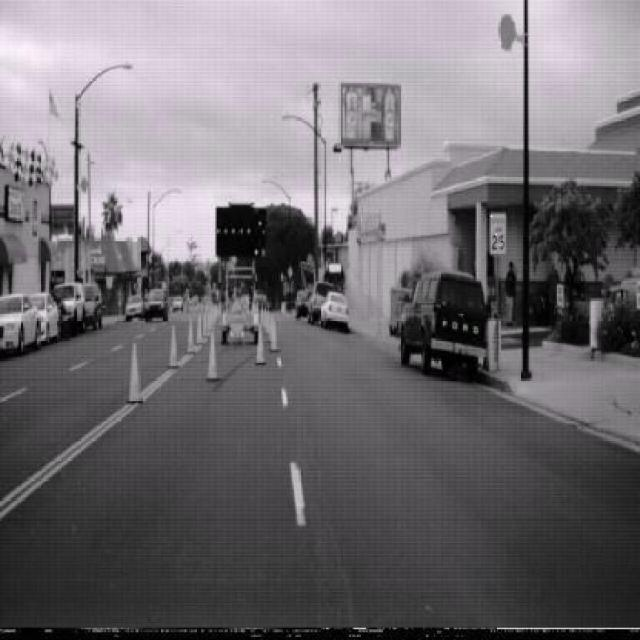speedLimit25: (490, 211, 508, 255)
